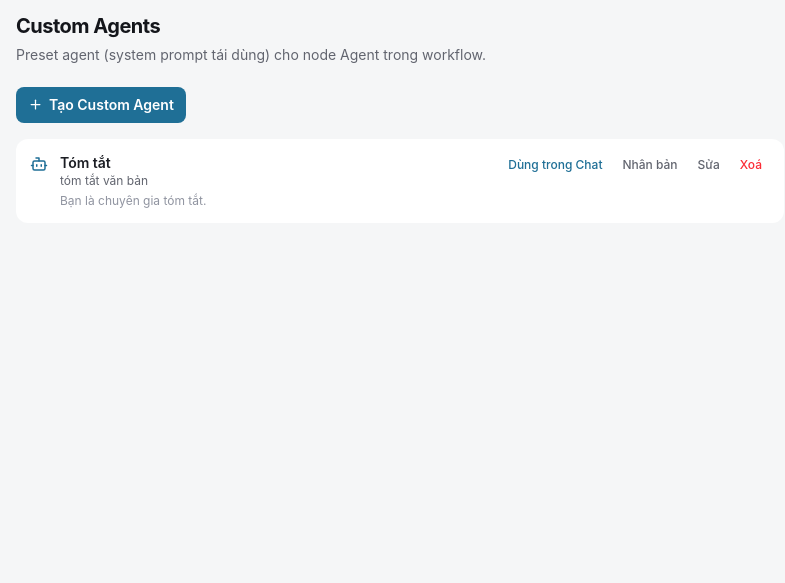
nhân bản: mở form tạo prefilled '(copy)' + system, chưa POST
Step 1. Click the button "Nhân bản" → coordinates (650, 165), box [614, 153, 686, 177]
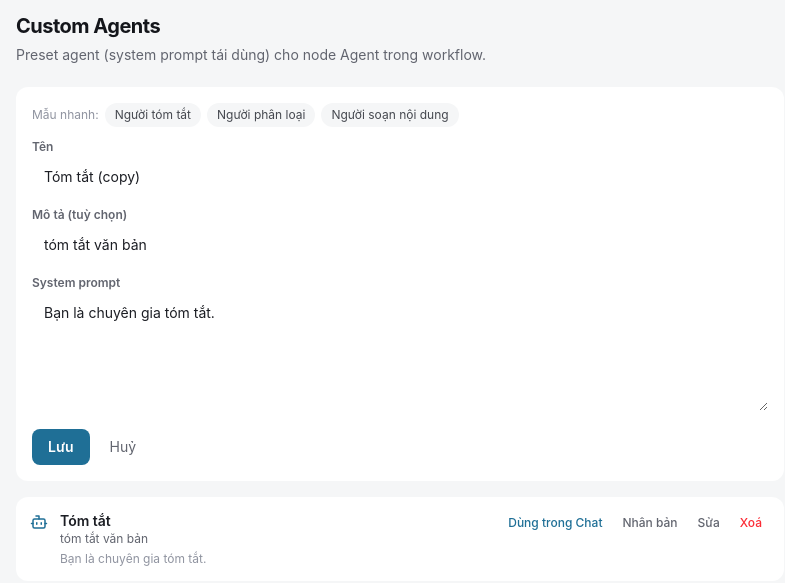
Expected: the field labelled "Tên" holds "Tóm tắt (copy)", [32, 159, 768, 195]
Expected: the text box labelled "System prompt" holds "Bạn là chuyên gia tóm tắt.", [32, 295, 768, 411]
